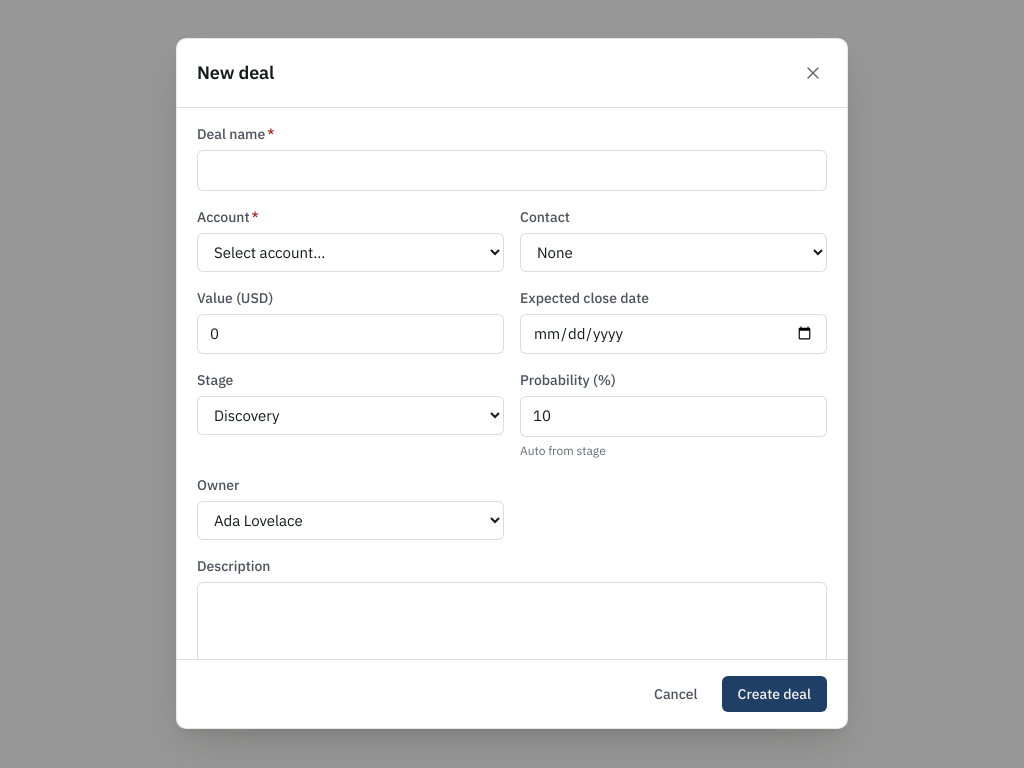
Scenario: OpportunityFormModal › validation › clears a field error as soon as the user edits it
Check: the dialog is shown, box [176,38,848,730]
Click the button "Create deal" at (774, 695), box [722,677,827,713]
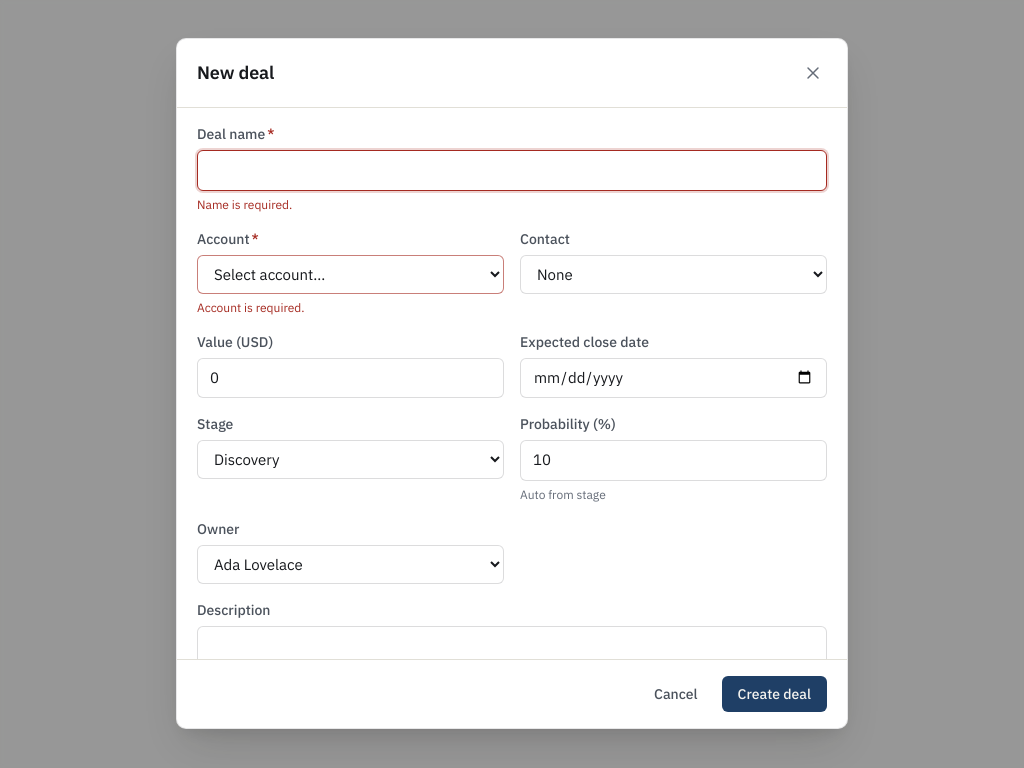
Check: the text "Name is required." is shown, box [197,197,292,212]
Type "x" into the field labelled "Deal name*" at (512, 171), box [197,150,827,191]
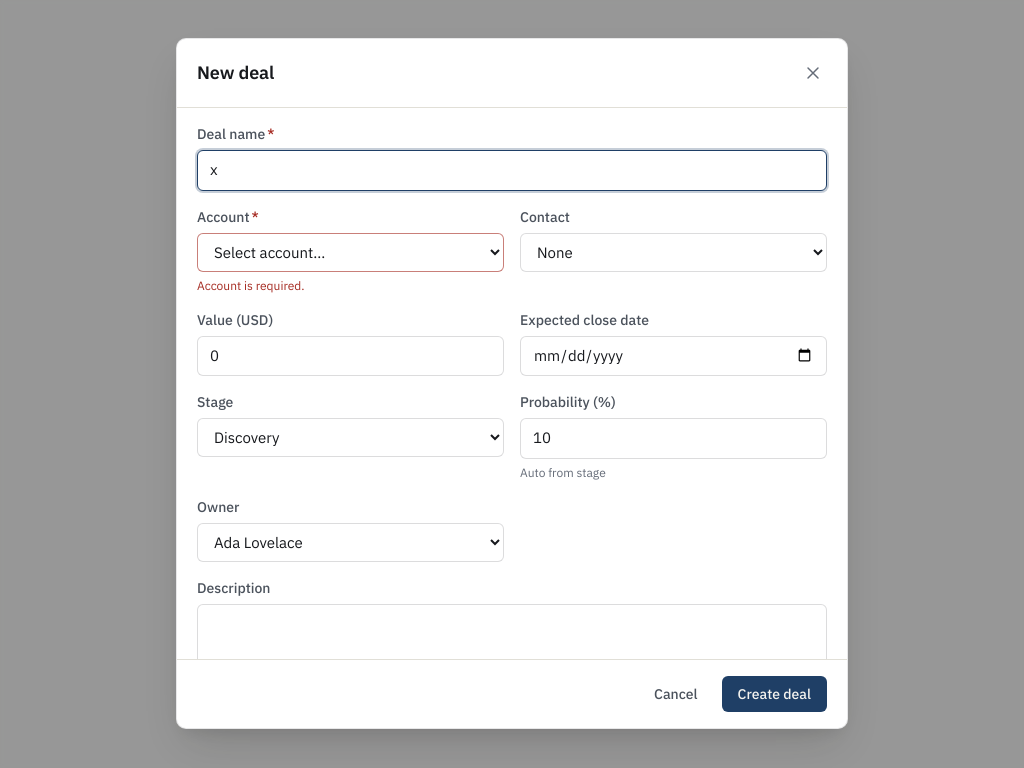
Check: the text "Name is required." is gone
